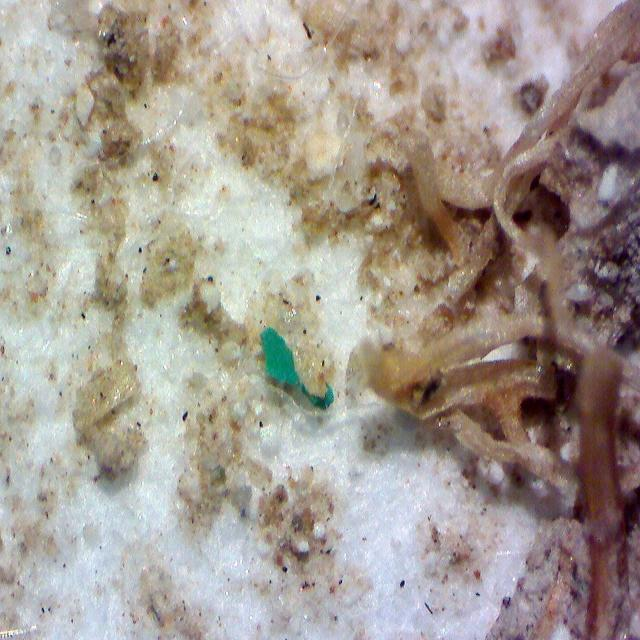microplastic: (261, 325, 333, 409)
